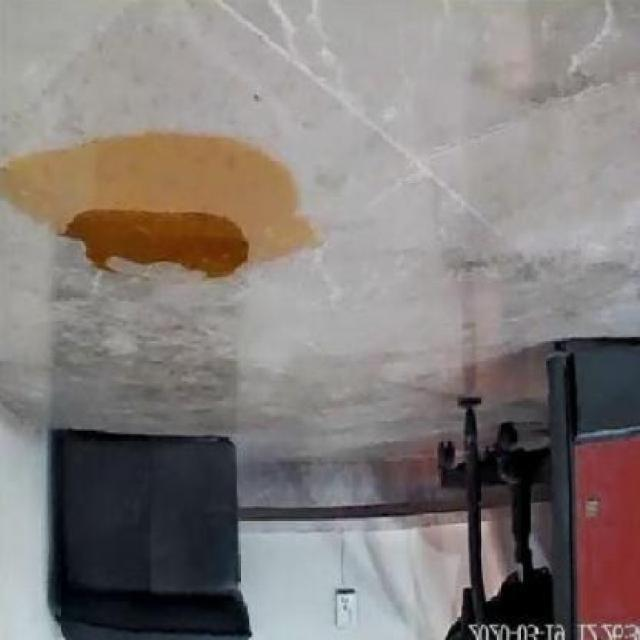spillage: (0, 133, 296, 292)
